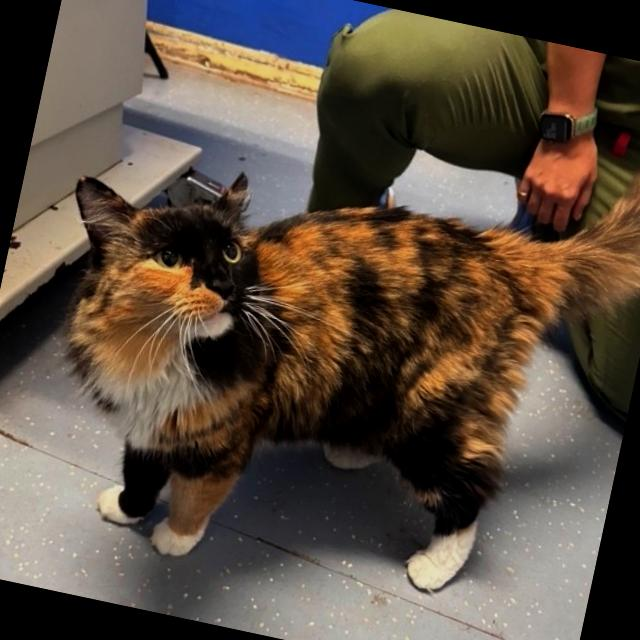domestic_long_hair_cat: (5, 110, 302, 458)
